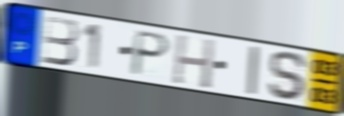1: (82, 22, 100, 70)
B: (40, 14, 80, 68)
H: (171, 32, 217, 91)
I: (245, 44, 261, 97)
P: (128, 28, 172, 78)
S: (267, 49, 309, 103)
